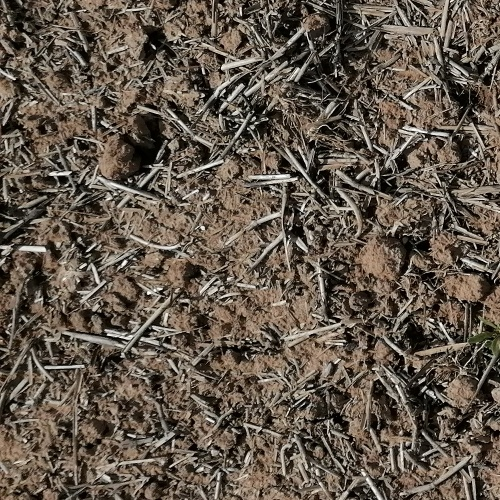beet: (465, 315, 500, 356)
